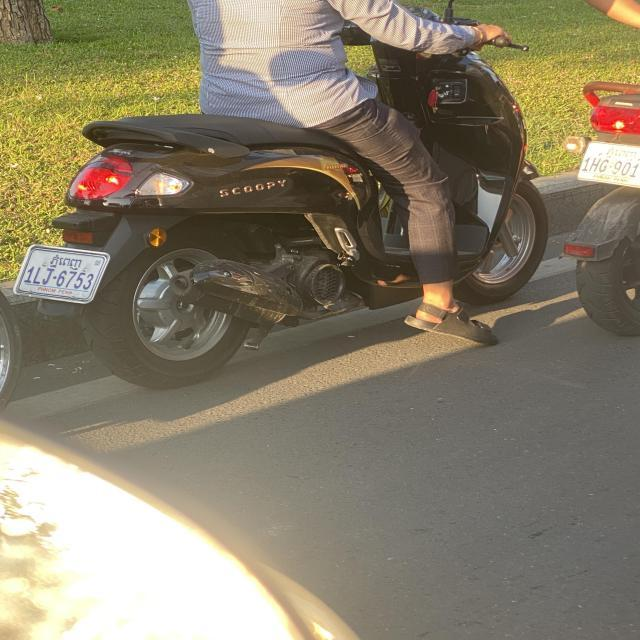Phnom_Penh: (49, 254, 84, 270)
